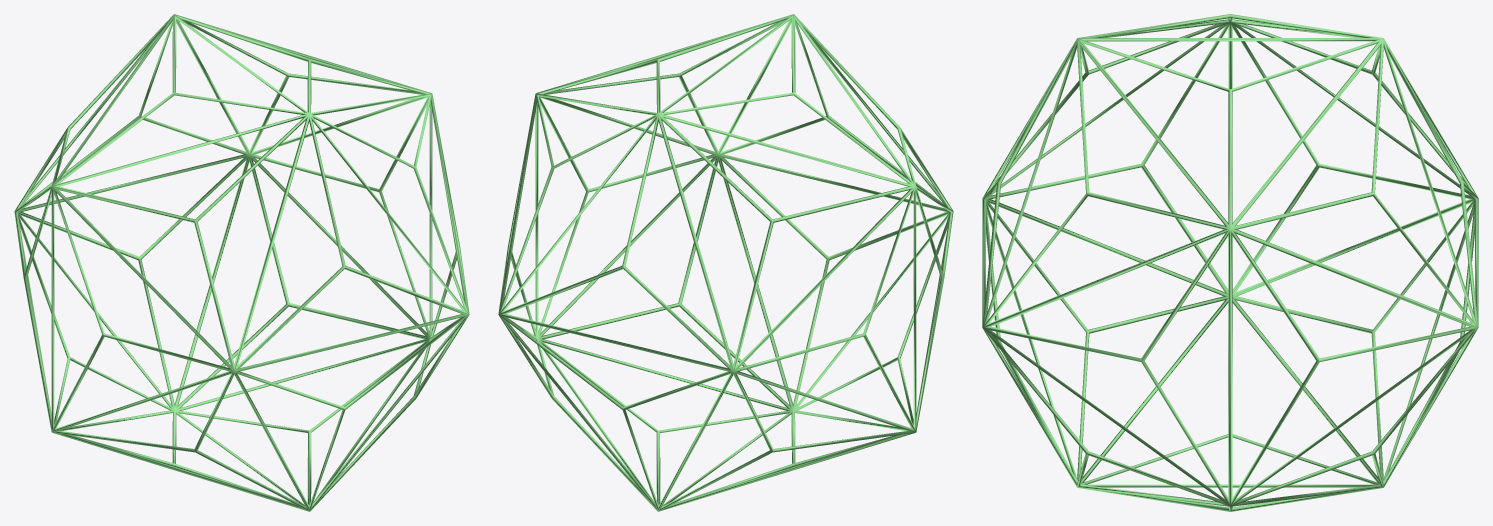
File: TriakisIcosahedron2.glb
3 views of the same model, side by side, from view 1: azimuth 30°, elevation 25°; view 2: azimuth 150°, elevation 25°; view 3: azimuth 270°, elevation 25° (orthographic). The views are drawn at different scales.
Parts seen in each view (by area): view 1: TriakisIcosahedron; view 2: TriakisIcosahedron; view 3: TriakisIcosahedron.
Boxes of the visible parts, x1=… form: TriakisIcosahedron: x1=14, y1=14, x2=469, y2=511; TriakisIcosahedron: x1=498, y1=14, x2=953, y2=511; TriakisIcosahedron: x1=982, y1=14, x2=1478, y2=511.
Bounding box in the file's own units: 5.9 × 5.9 × 5.9.
